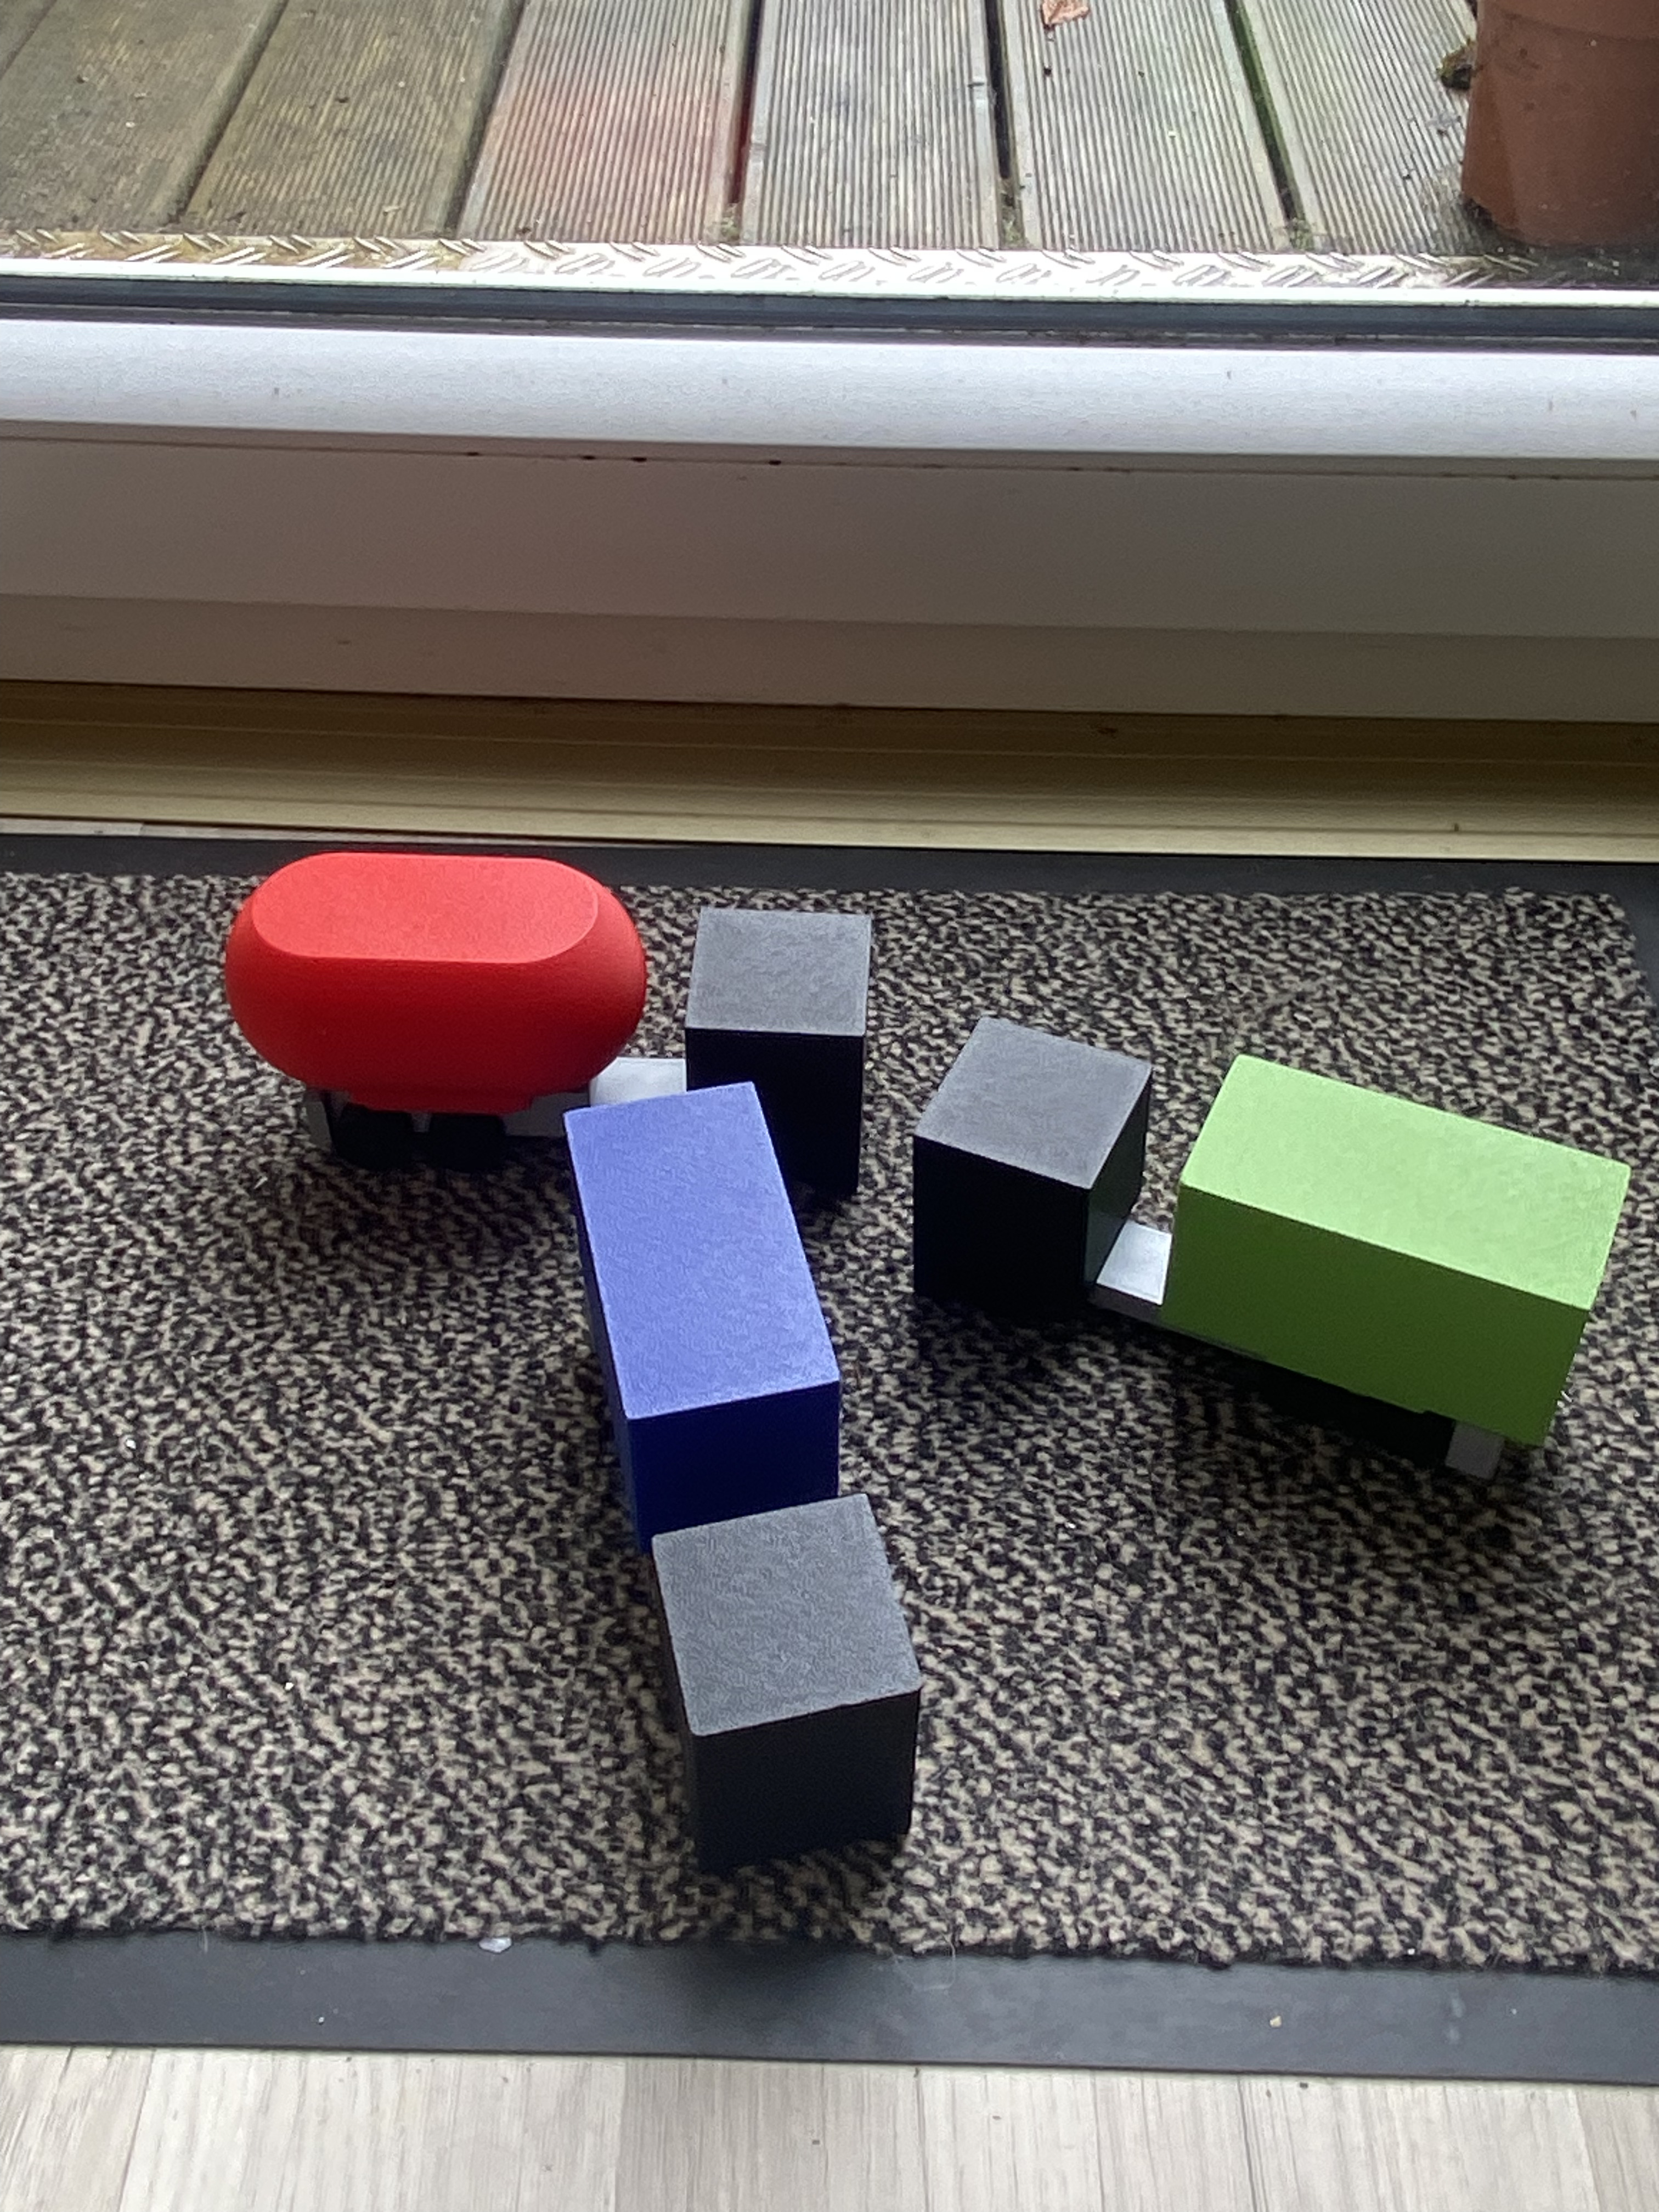blue_truck: (605, 1069, 885, 1860)
green_truck: (1070, 881, 1429, 1580)
red_truck: (399, 672, 680, 1332)
